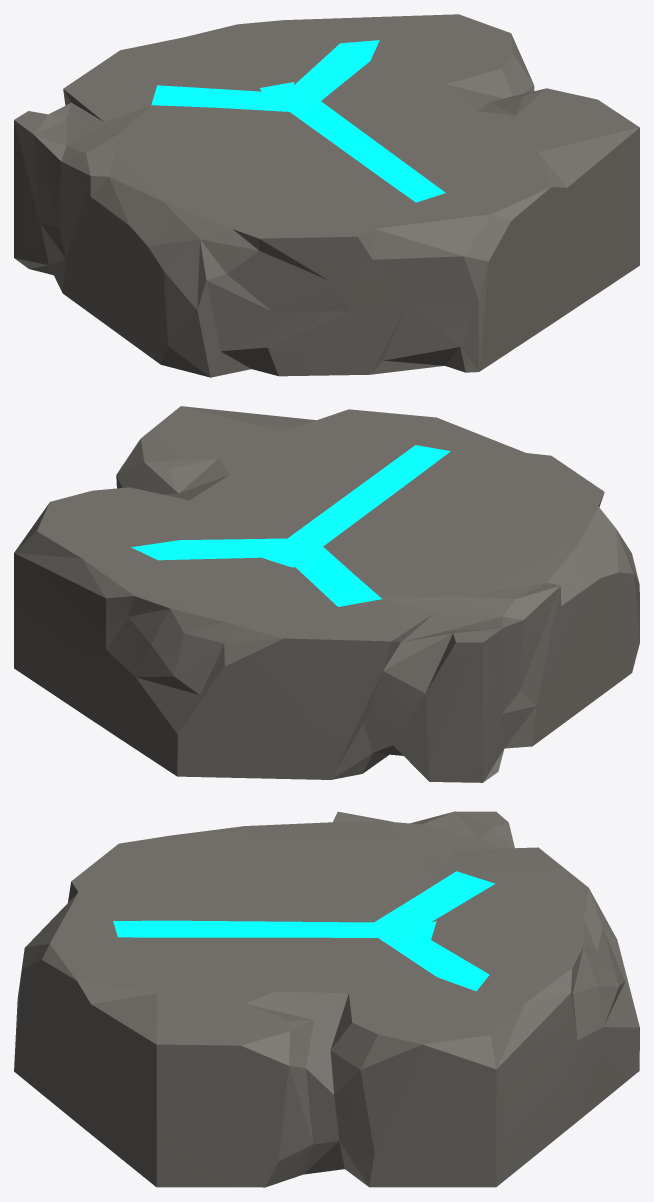
3 renders of one model, top to bottom at view 1: azimuth 30°, elevation 25°; view 2: azimuth 150°, elevation 25°; view 3: azimuth 270°, elevation 25°, orthographic. The views are drawn at different scales.
Parts seen in each view (by area): view 1: Obj3d66-1649282-6-905; view 2: Obj3d66-1649282-6-905; view 3: Obj3d66-1649282-6-905.
Part boxes in pixels (box(x1,y1,x2,y2)): Obj3d66-1649282-6-905: box(14, 14, 639, 377); Obj3d66-1649282-6-905: box(14, 406, 639, 782); Obj3d66-1649282-6-905: box(14, 811, 639, 1187).
Size of the model in its own units: 959 by 274 by 1088.
1 material, 1 textured.
